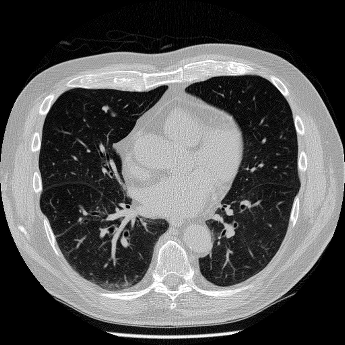nodule: (103, 106, 107, 110)
